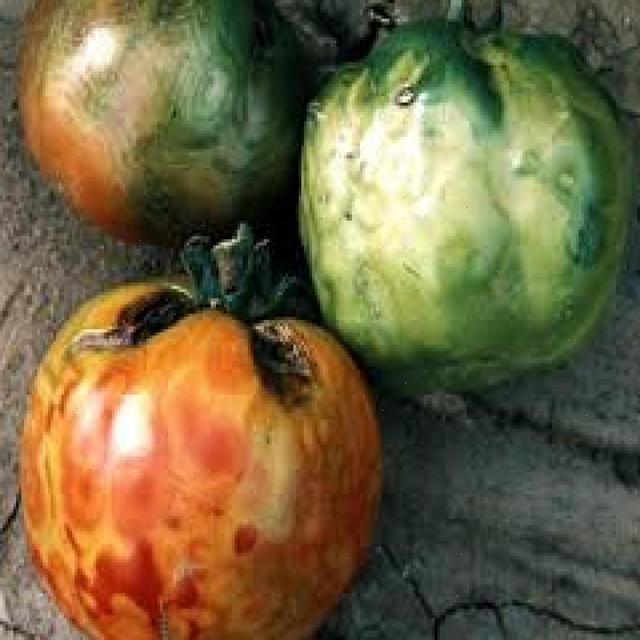Spotted wilt Virus Fruit: (108, 80, 312, 306)
